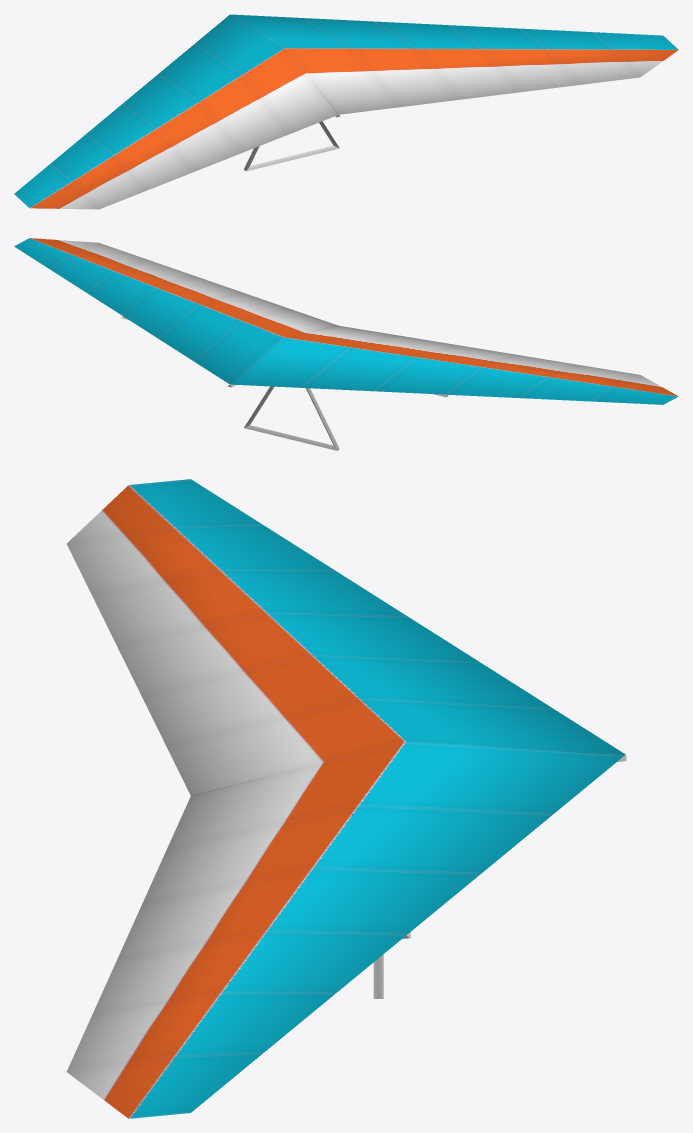
Rendered from glider.glb.
3 views of the same model, one above another, from view 1: azimuth 30°, elevation 25°; view 2: azimuth 150°, elevation 25°; view 3: azimuth 270°, elevation 25° (orthographic). The views are drawn at different scales.
Parts seen in each view (by area): view 1: wing, handle; view 2: wing, handle; view 3: wing.
Boxes of the visible parts, x1,y1,x2,y2 form: wing: (14, 14, 678, 209); handle: (244, 121, 339, 171); wing: (14, 238, 678, 404); handle: (244, 386, 339, 450); wing: (66, 479, 625, 1118).
Bounding box in the file's own units: 12 × 1.87 × 4.48.
1 material, 1 textured.
